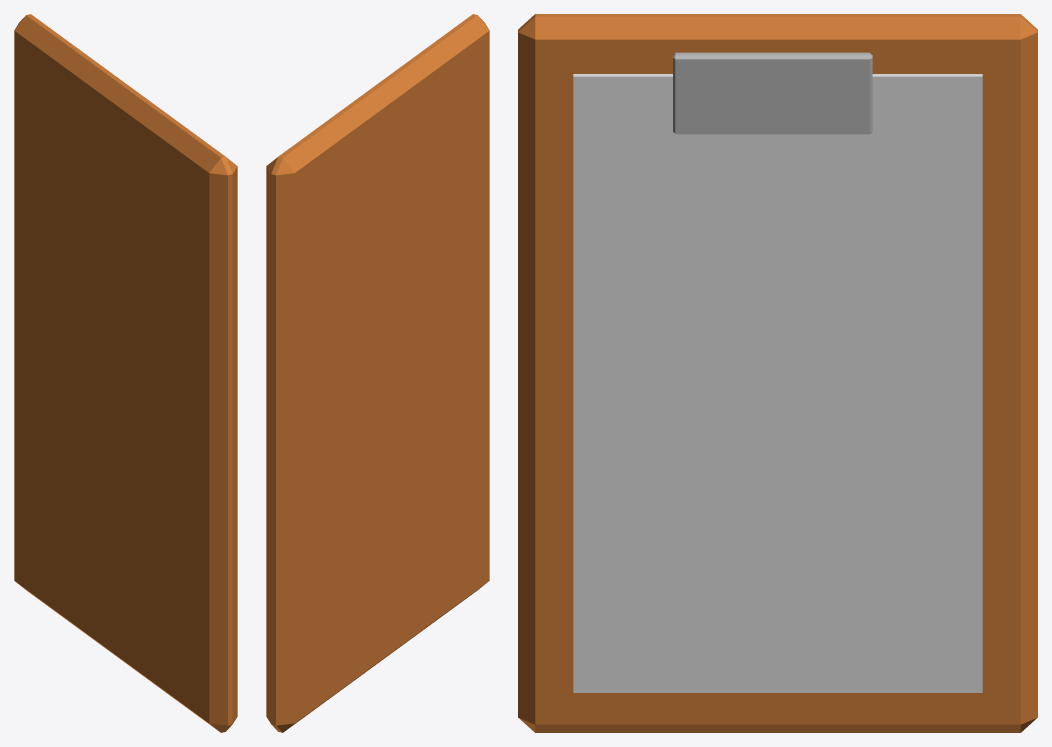
Rendered from TaskGenerico.fbx.
3 views of the same model, side by side, from view 1: azimuth 30°, elevation 25°; view 2: azimuth 150°, elevation 25°; view 3: azimuth 270°, elevation 25° (orthographic). The views are drawn at different scales.
Parts seen in each view (by area): view 1: Clipboard; view 2: Clipboard; view 3: Clipboard.
Part boxes in pixels (box(x1,y1,x2,y2)): Clipboard: box(14, 14, 237, 732); Clipboard: box(266, 14, 489, 732); Clipboard: box(518, 14, 1037, 732).
Bounding box in the file's own units: 5.66 × 78.24 × 51.47.
